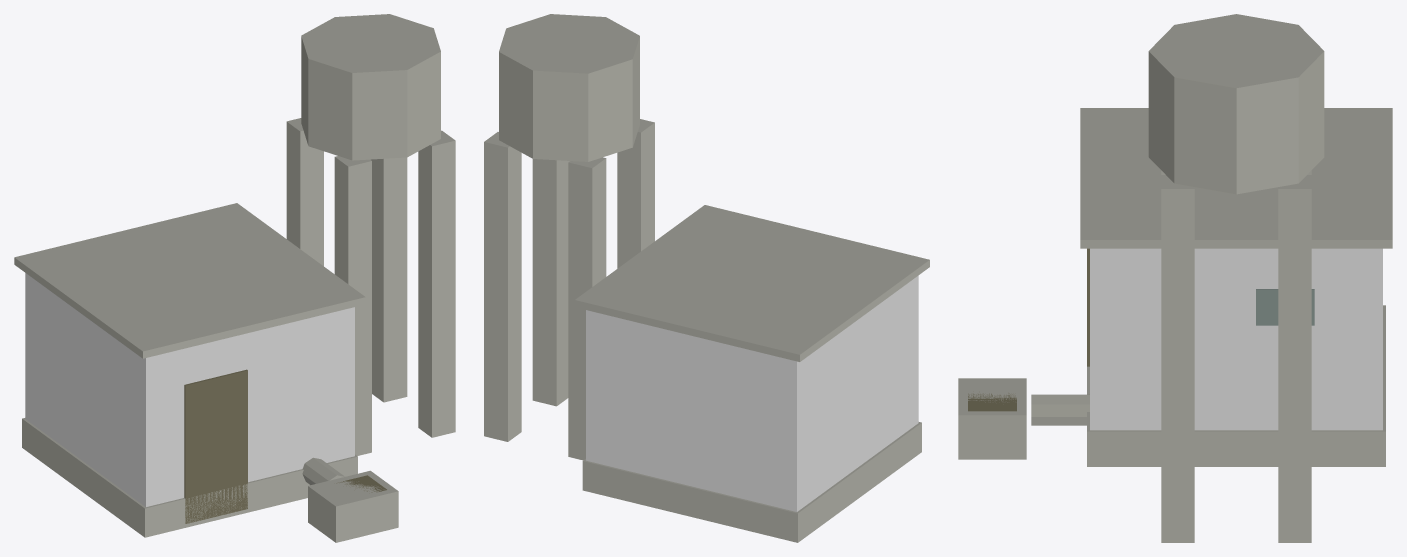
Rendered from SM_CasetaPozo_v4_Deposito_LOD1.fbx.
3 views of the same model, side by side, from view 1: azimuth 30°, elevation 25°; view 2: azimuth 150°, elevation 25°; view 3: azimuth 270°, elevation 25° (orthographic). The views are drawn at different scales.
Visible parts, largest first — view 1: SM_huerta_nules_v4_LOD1; view 2: SM_huerta_nules_v4_LOD1; view 3: SM_huerta_nules_v4_LOD1.
Part boxes in pixels (bbox=[...]): SM_huerta_nules_v4_LOD1: bbox=[14, 14, 455, 542]; SM_huerta_nules_v4_LOD1: bbox=[484, 14, 929, 542]; SM_huerta_nules_v4_LOD1: bbox=[958, 14, 1392, 542].
Bounding box in the file's own units: 5.1 × 5.2 × 4.45.
